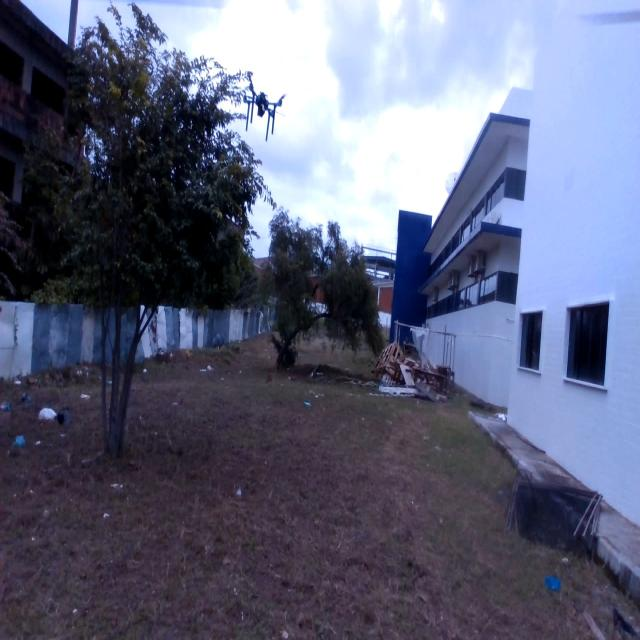-uav-: (235, 52, 292, 161)
